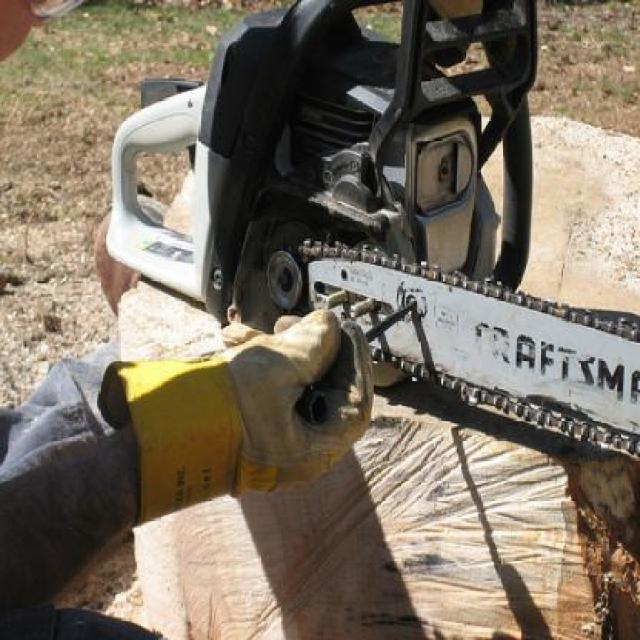Chainsaw: (104, 0, 640, 466)
